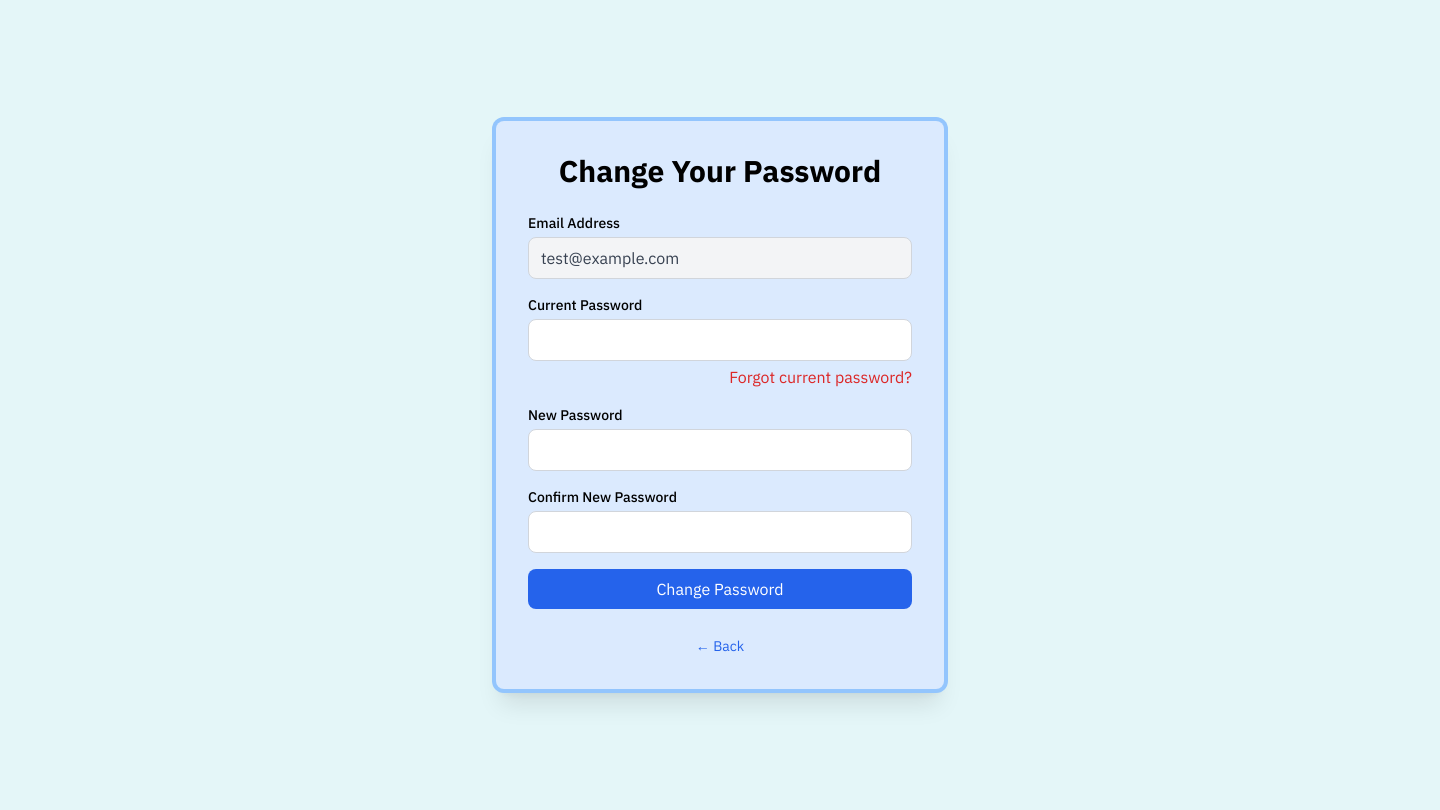
it: ChangePassword › shows error when current password is incorrect
This screenshot has width=1440, height=810.
Type "WrongPass123!" into the password field labelled "Current Password" at point(720, 340), box [528,319,912,361]
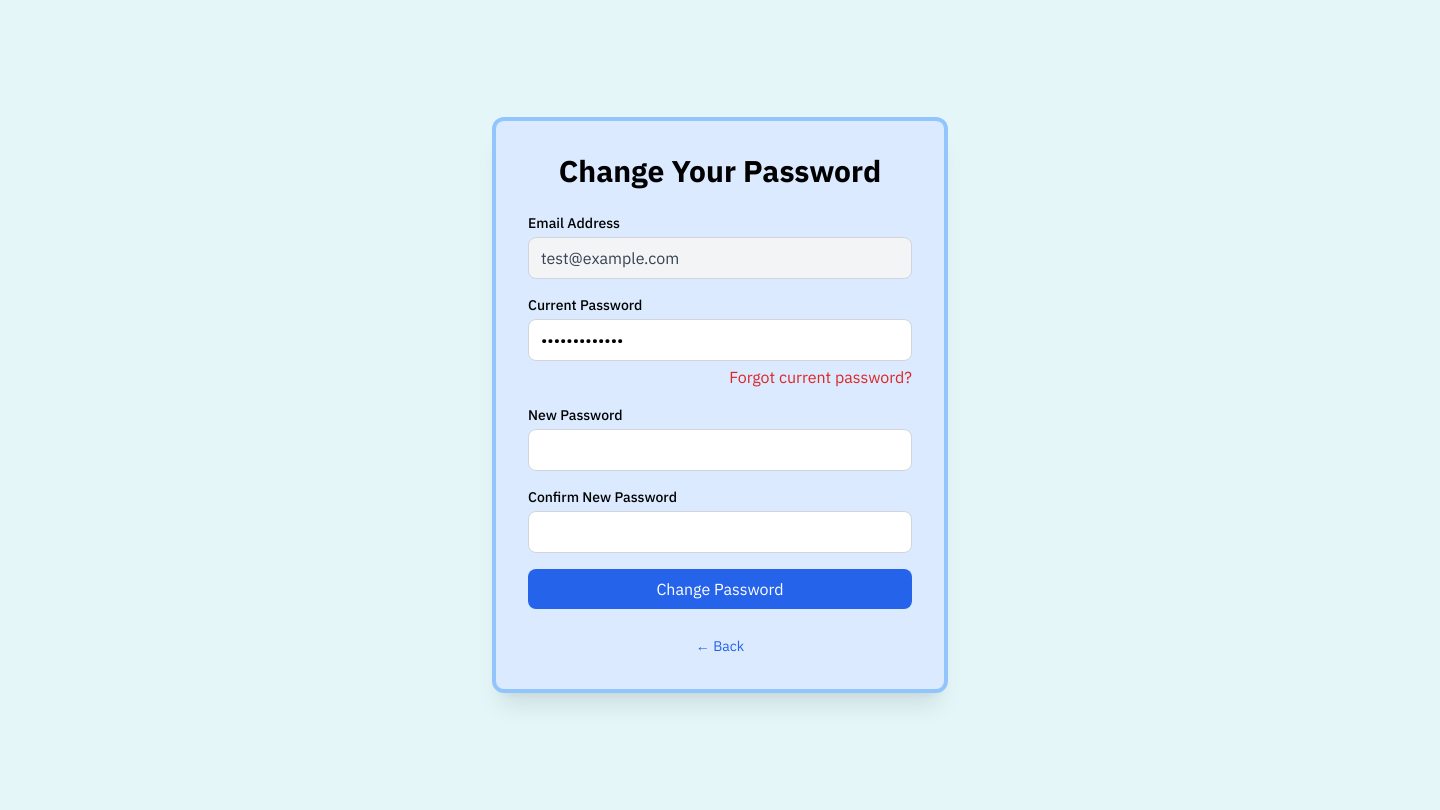
Type "NewPass123!" into the password field labelled "New Password" at point(720, 450), box [528,429,912,471]
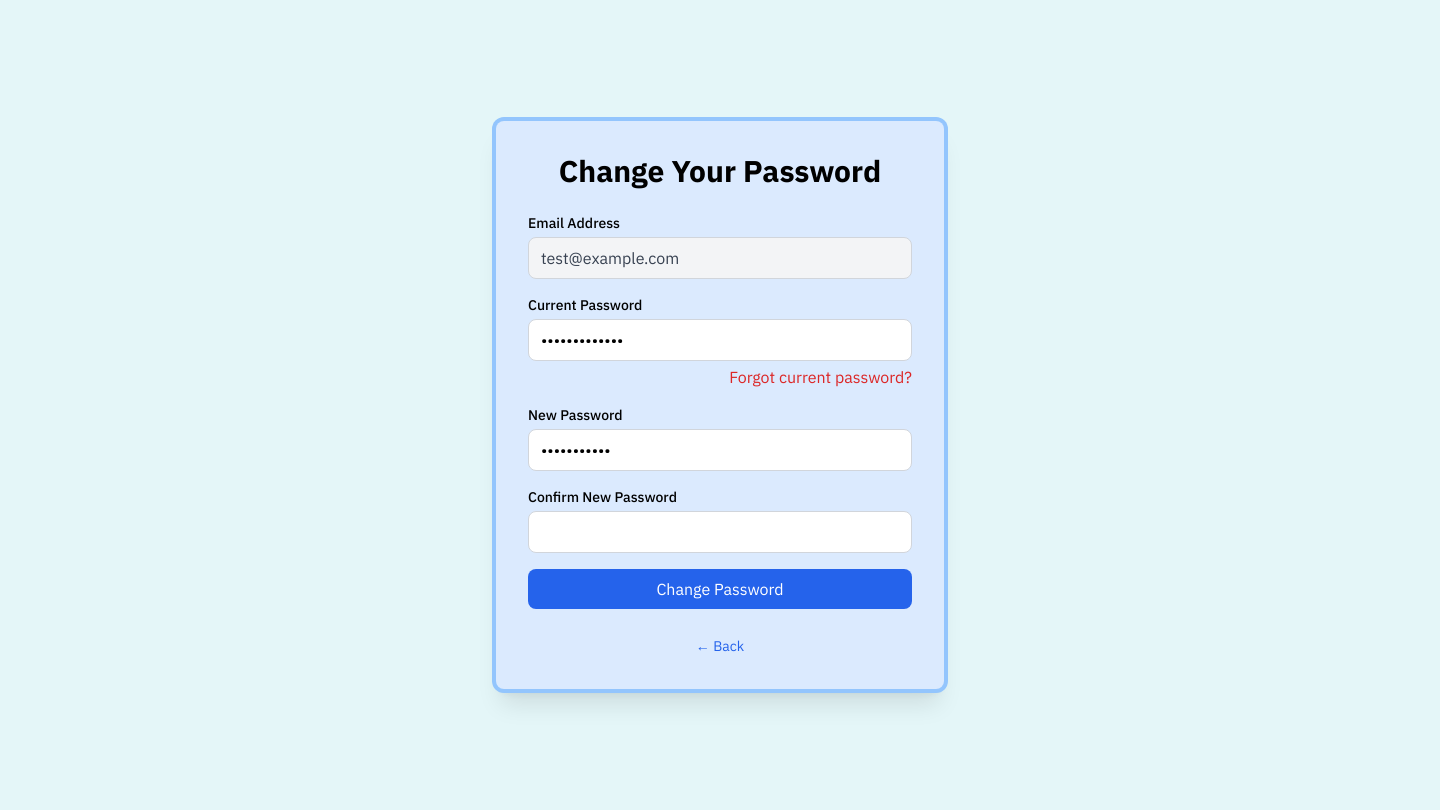
Type "NewPass123!" into the password field labelled "Confirm New Password" at point(720, 532), box [528,511,912,553]
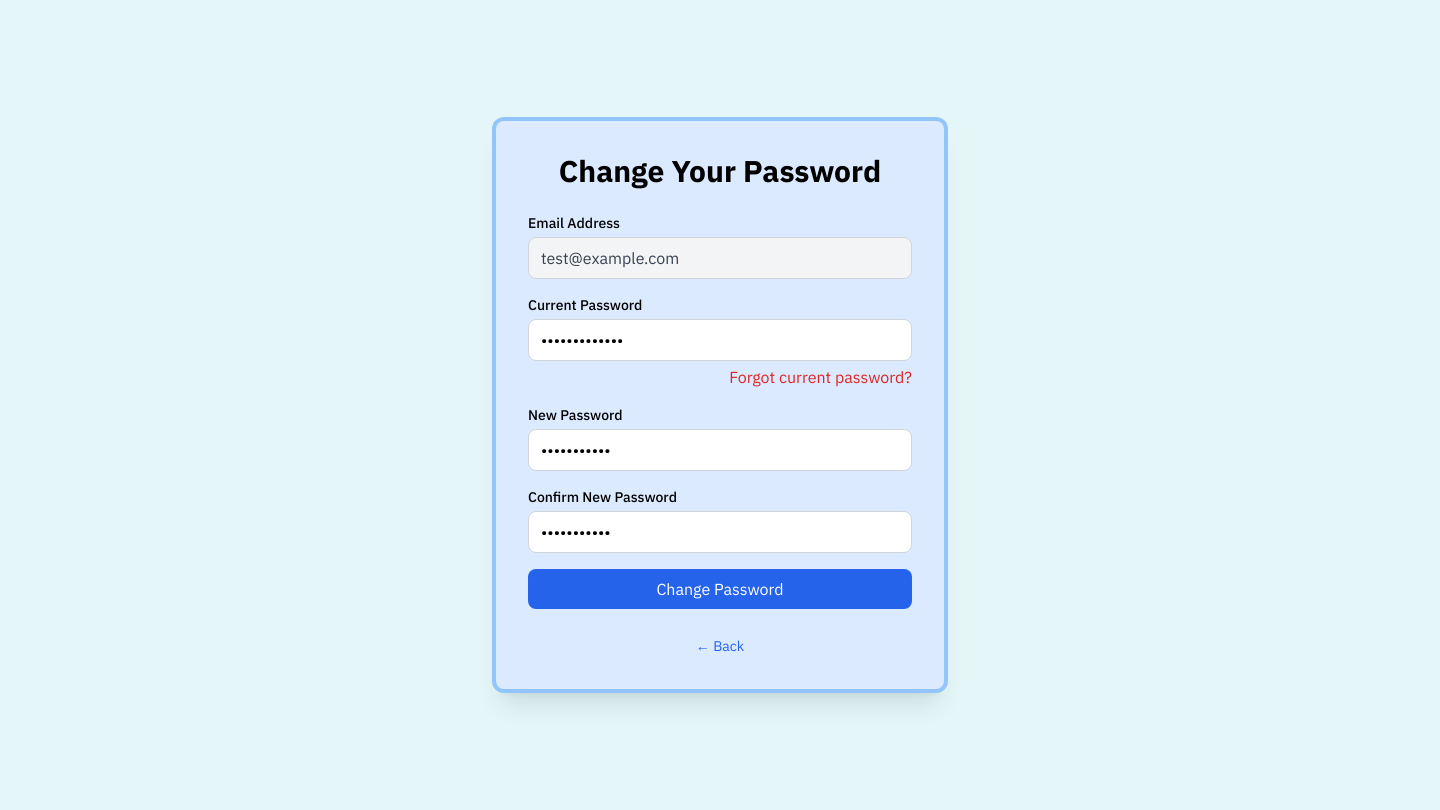
Click the button "Change Password" at point(720, 589), box [528,569,912,609]
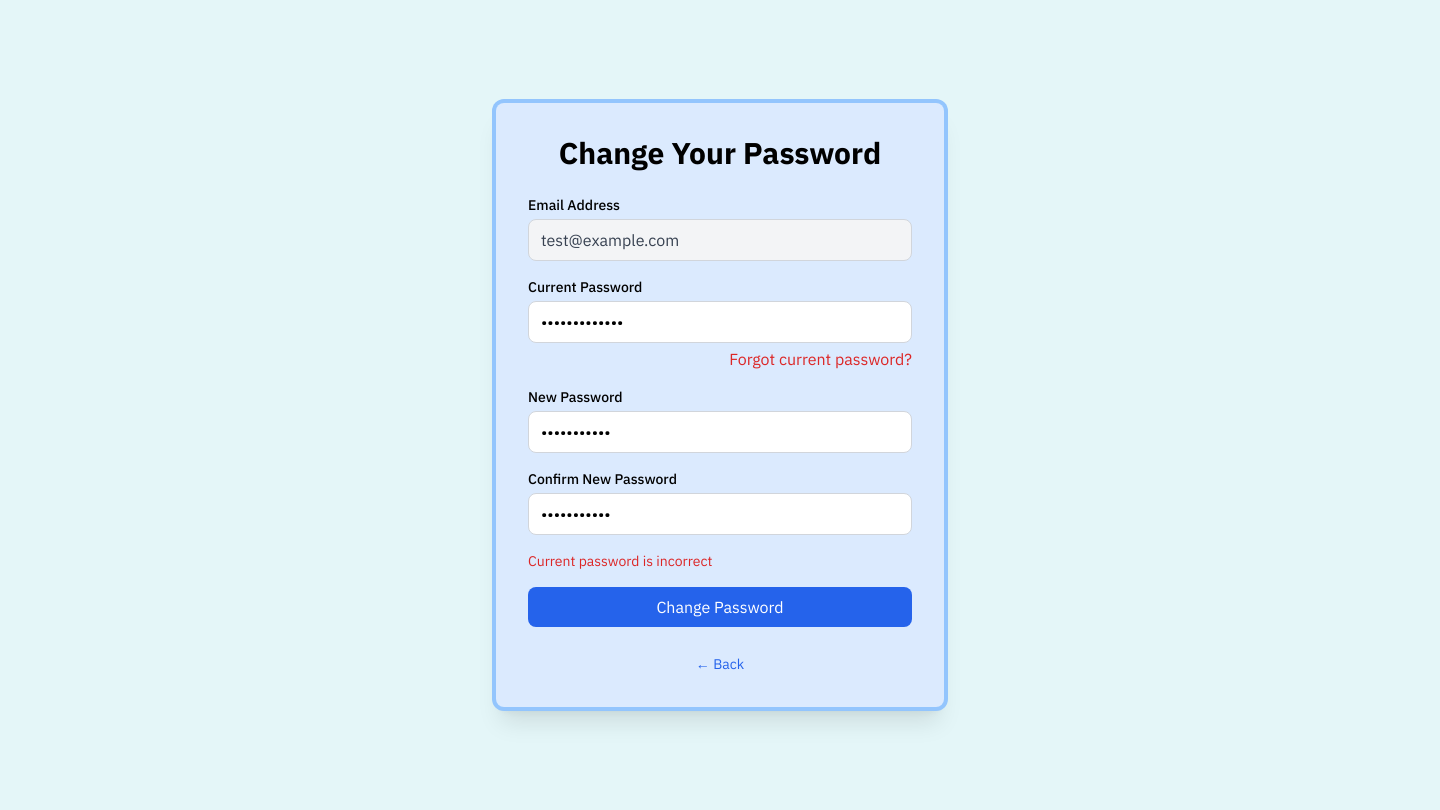
Check: the text "Current password is incorrect" is shown, box [528,552,712,570]
